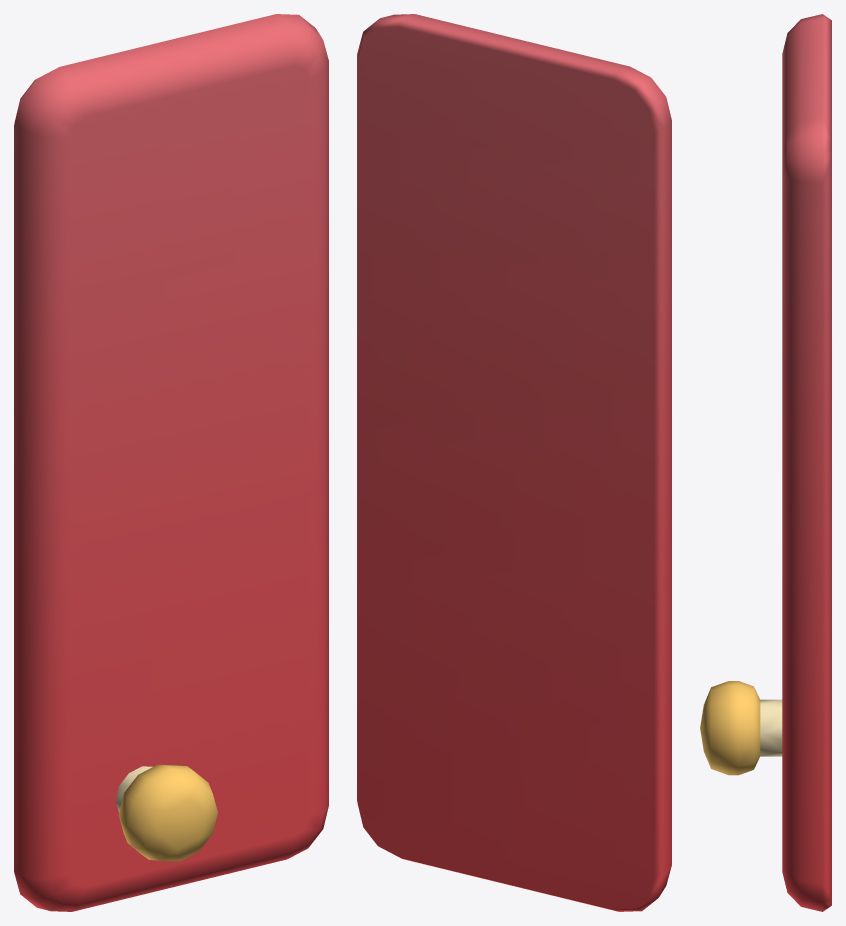
File: Kitchen_Cabinet_002_door_002.fbx
3 views of the same model, side by side, from view 1: azimuth 30°, elevation 25°; view 2: azimuth 150°, elevation 25°; view 3: azimuth 270°, elevation 25° (orthographic). The views are drawn at different scales.
Visible parts, largest first — view 1: Kitchen_Cabinet_002_door_002; view 2: Kitchen_Cabinet_002_door_002; view 3: Kitchen_Cabinet_002_door_002.
Part boxes in pixels (x1=…): Kitchen_Cabinet_002_door_002: x1=14, y1=14, x2=328, y2=911; Kitchen_Cabinet_002_door_002: x1=357, y1=14, x2=671, y2=911; Kitchen_Cabinet_002_door_002: x1=700, y1=14, x2=831, y2=911.
Size of the model in its own units: 28.7 by 11.34 by 74.93.
